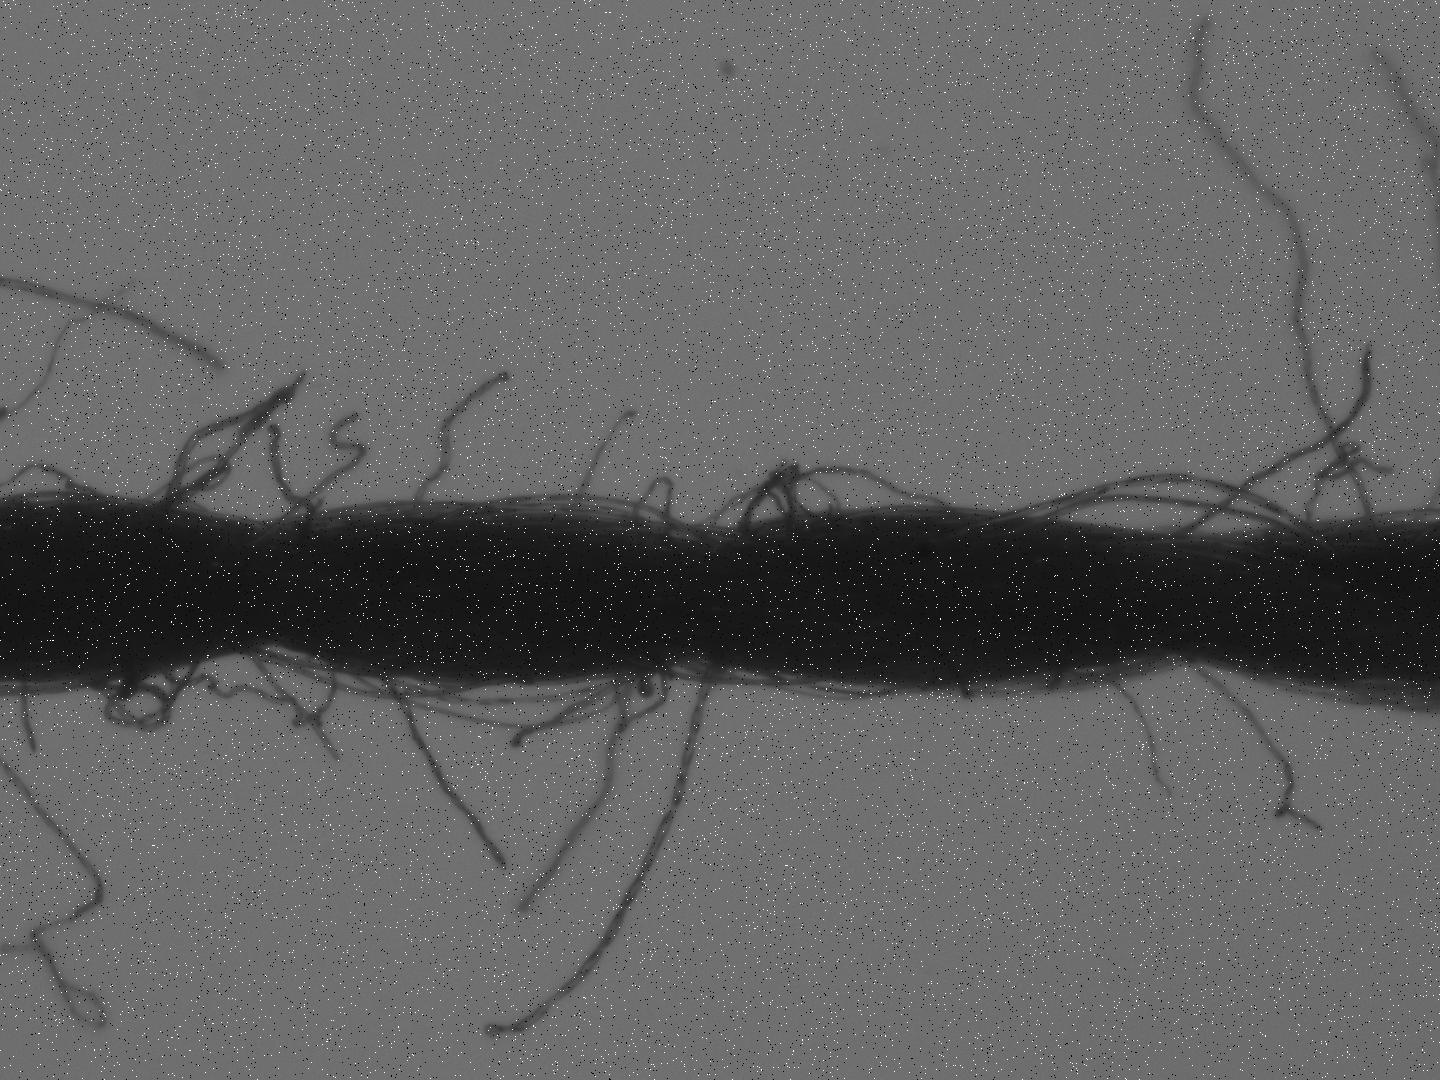loop_fiber: (937, 466, 1348, 568), (151, 370, 315, 516), (145, 639, 339, 739), (93, 655, 206, 736), (734, 455, 802, 554), (607, 644, 670, 743), (624, 464, 681, 559), (1, 461, 100, 505), (782, 674, 903, 699)
protruding_fiber: (1177, 638, 1328, 836), (400, 369, 514, 508)
